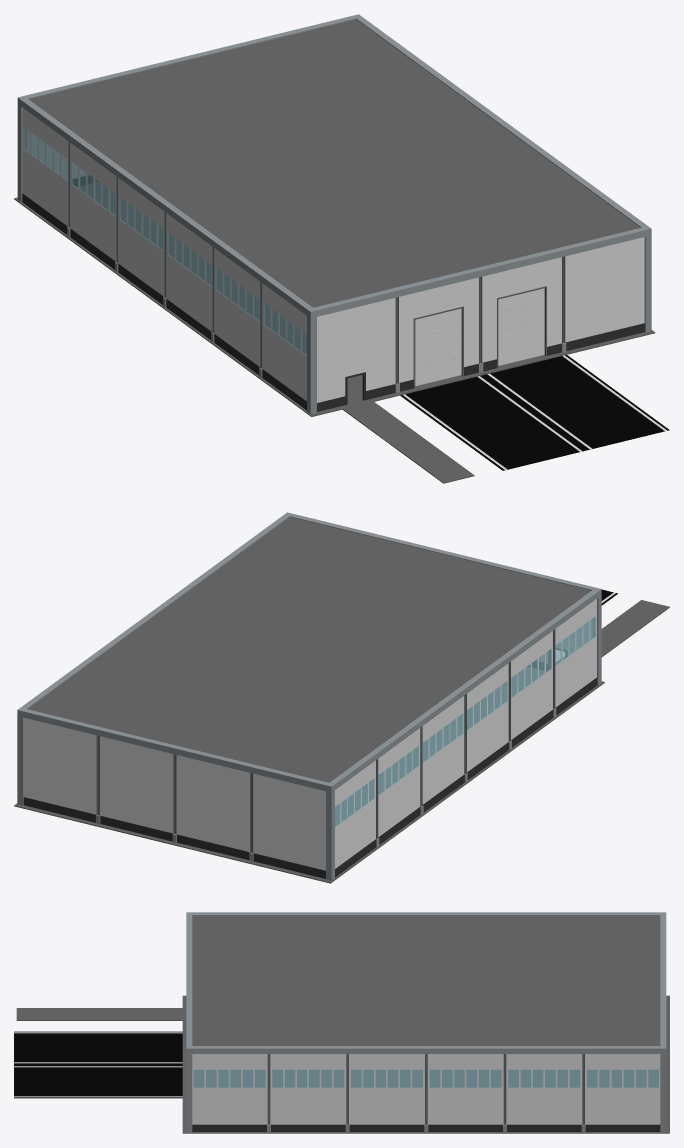
Rendered from BoxWarehouse4.fbx.
3 views of the same model, one above another, from view 1: azimuth 30°, elevation 25°; view 2: azimuth 150°, elevation 25°; view 3: azimuth 270°, elevation 25° (orthographic). The views are drawn at different scales.
Visible parts, largest first — view 1: Cube.105, Plane.001, Cube.030, Cube.095, Plane, Cube.076, Cube.086, Cube.044, Cube.042, Cube.009, Cube.011, Cube.008 (+19 smaller); view 2: Cube.105, Cube.039, Cube.038, Cube.048, Cube.034, Plane, Cube.044, Cube.043, Cube.007, Cube.008, Cube.014, Cube.011 (+17 smaller); view 3: Cube.105, Plane.001, Plane, Cube.020, Cube.019, Cube.025, Cube.015, Cube.029, Cube.024, Cube.072, Plane.003, Cube.044 (+17 smaller).
Boxes of the visible parts, left/top/right/bottom form: Cube.105: left=28, top=19, right=640, bottom=307; Plane.001: left=400, top=355, right=669, bottom=470; Cube.030: left=565, top=237, right=644, bottom=342; Cube.095: left=317, top=298, right=395, bottom=402; Plane: left=14, top=182, right=655, bottom=416; Cube.076: left=482, top=257, right=561, bottom=362; Cube.086: left=399, top=277, right=478, bottom=382; Cube.044: left=21, top=98, right=312, bottom=315; Cube.042: left=307, top=226, right=651, bottom=318; Cube.009: left=166, top=213, right=211, bottom=331; Cube.011: left=214, top=248, right=259, bottom=366; Cube.008: left=118, top=178, right=163, bottom=296; Cube.105: left=27, top=517, right=591, bottom=782; Cube.039: left=176, top=755, right=249, bottom=851; Cube.038: left=100, top=736, right=173, bottom=833; Cube.048: left=253, top=773, right=325, bottom=870; Cube.034: left=24, top=717, right=96, bottom=814; Plane: left=14, top=667, right=604, bottom=883; Cube.044: left=329, top=590, right=598, bottom=789; Cube.043: left=17, top=707, right=334, bottom=792; Cube.007: left=378, top=728, right=420, bottom=836; Cube.008: left=422, top=696, right=464, bottom=804; Cube.014: left=555, top=599, right=596, bottom=707; Cube.011: left=511, top=631, right=552, bottom=739; Cube.105: left=192, top=915, right=660, bottom=1045; Plane.001: left=14, top=1031, right=182, bottom=1098; Plane: left=182, top=995, right=669, bottom=1133; Cube.020: left=427, top=1054, right=503, bottom=1124; Cube.019: left=506, top=1054, right=582, bottom=1124; Cube.025: left=270, top=1054, right=346, bottom=1124; Cube.015: left=585, top=1054, right=660, bottom=1124; Cube.029: left=192, top=1054, right=267, bottom=1124; Cube.024: left=349, top=1054, right=424, bottom=1124; Cube.072: left=192, top=1046, right=660, bottom=1053; Plane.003: left=16, top=1008, right=182, bottom=1020; Cube.044: left=192, top=912, right=660, bottom=915.
Bounding box in the file's own units: 4131 × 1185 × 8340.
